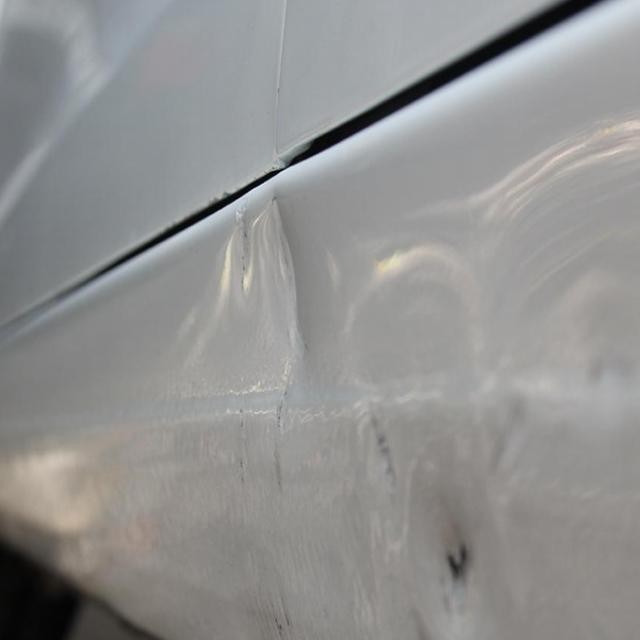dents: (236, 202, 310, 349), (344, 389, 409, 539), (460, 403, 542, 503), (433, 514, 500, 628), (574, 337, 639, 429)
